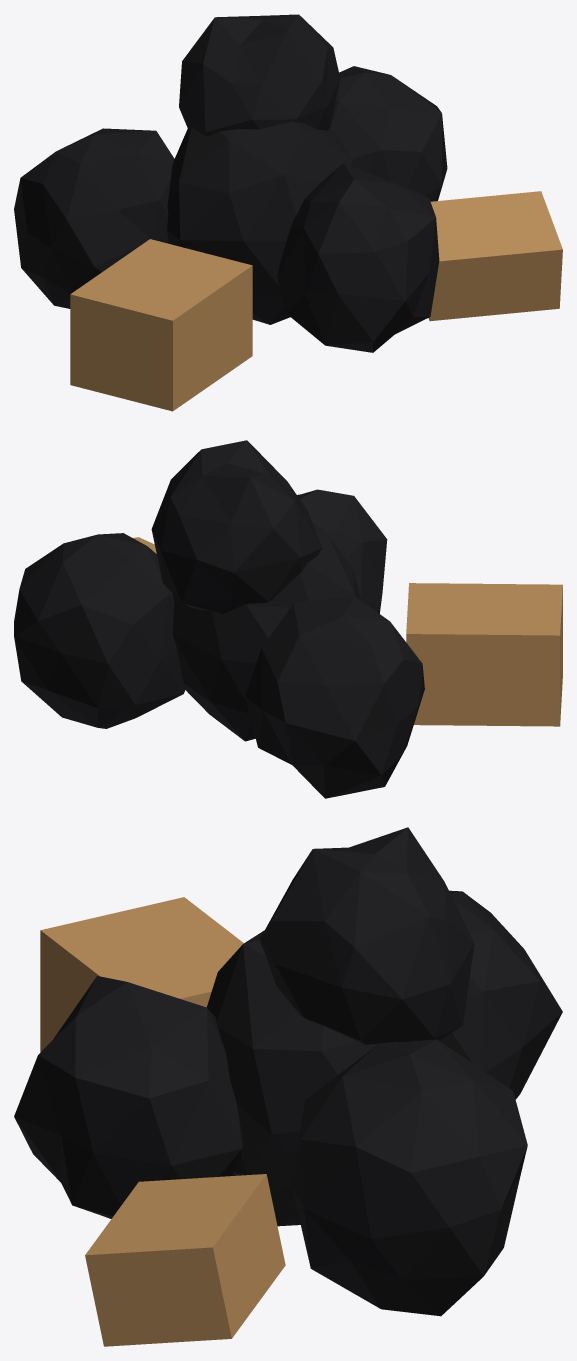
File: Trash_Pile.fbx
3 renders of one model, top to bottom at view 1: azimuth 30°, elevation 25°; view 2: azimuth 150°, elevation 25°; view 3: azimuth 270°, elevation 25°, orthographic. The views are drawn at different scales.
Parts seen in each view (by area): view 1: Trash_Pile; view 2: Trash_Pile; view 3: Trash_Pile.
Boxes of the visible parts, x1,y1,x2,y2 form: Trash_Pile: (14,14,562,411); Trash_Pile: (14,440,562,798); Trash_Pile: (14,827,562,1346).
Bounding box in the file's own units: 1.68 × 0.9349 × 1.21.
